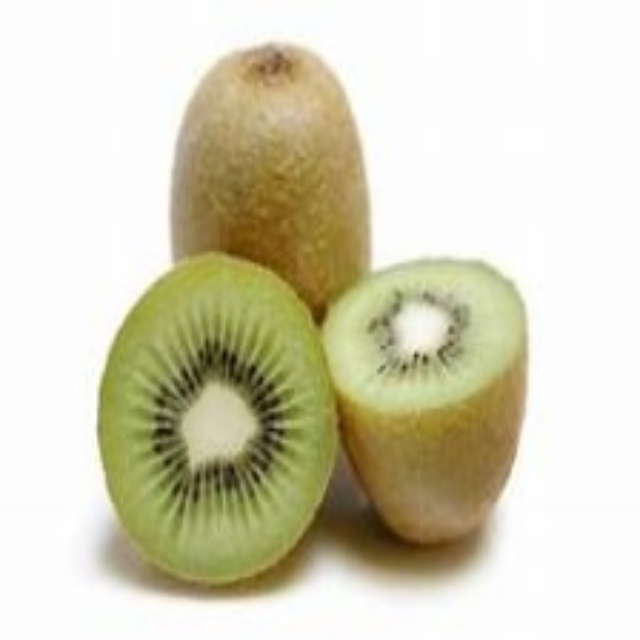kiwi: (95, 257, 326, 588), (180, 37, 378, 331), (339, 256, 531, 552)
